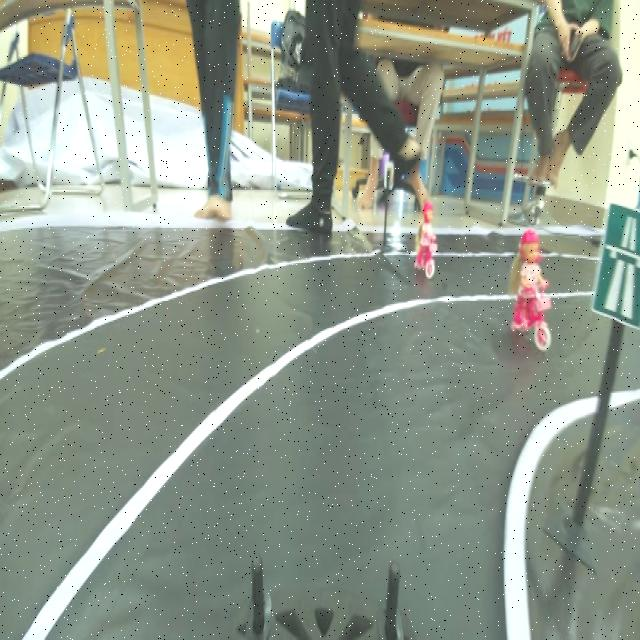highway_entry: (591, 192, 640, 334)
pedestrian: (509, 224, 559, 359), (409, 204, 441, 270)
